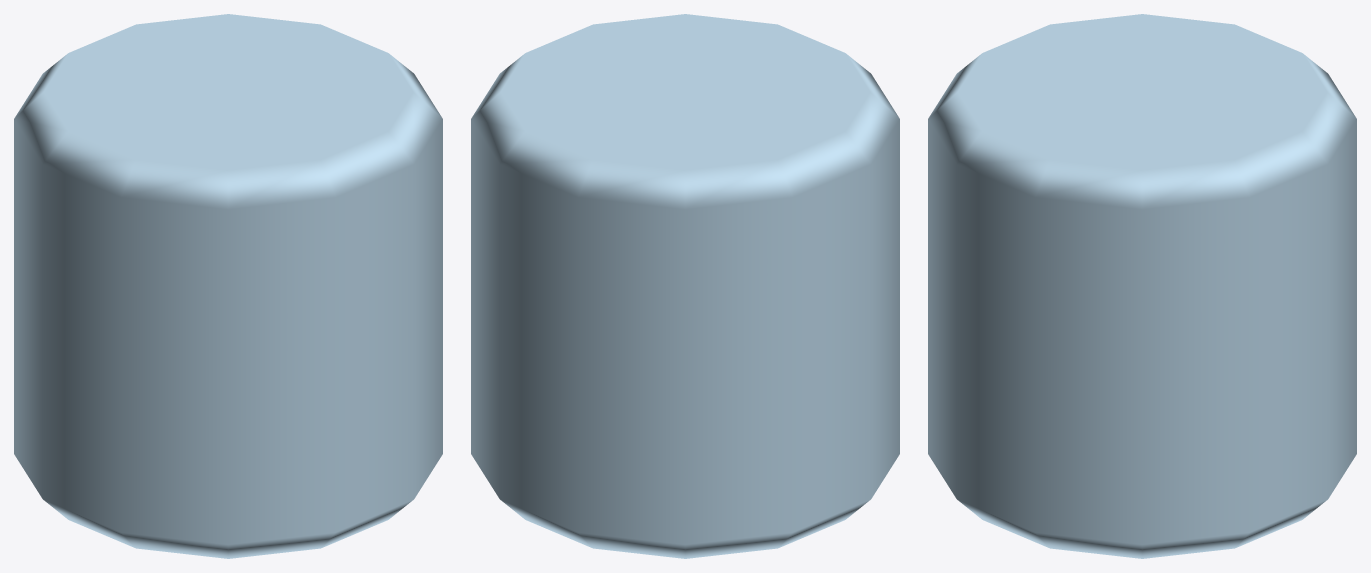
3 views of the same model, side by side, from view 1: azimuth 30°, elevation 25°; view 2: azimuth 150°, elevation 25°; view 3: azimuth 270°, elevation 25° (orthographic).
Visible parts, largest first — view 1: R4B_Cylinder; view 2: R4B_Cylinder; view 3: R4B_Cylinder.
Boxes of the visible parts, left/top/right/bottom form: R4B_Cylinder: left=14, top=14, right=442, bottom=558; R4B_Cylinder: left=471, top=14, right=899, bottom=558; R4B_Cylinder: left=928, top=14, right=1356, bottom=558.
Bounding box in the file's own units: 0.52 × 0.52 × 0.52.
